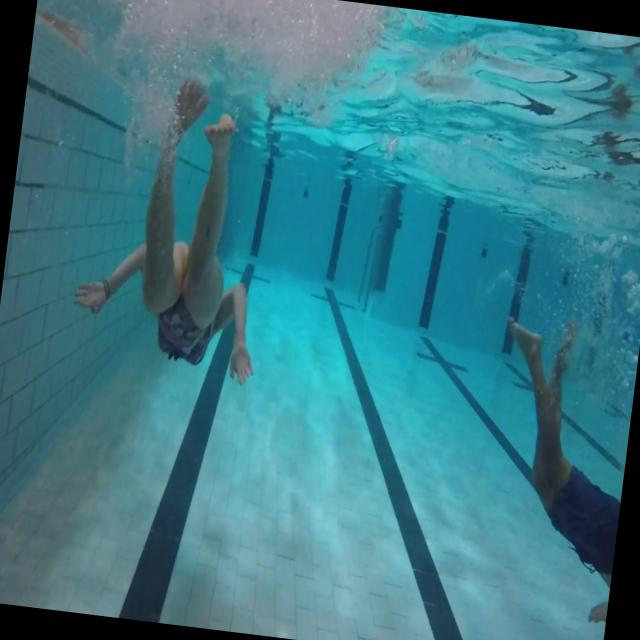human: (65, 66, 288, 387), (471, 310, 640, 632)
